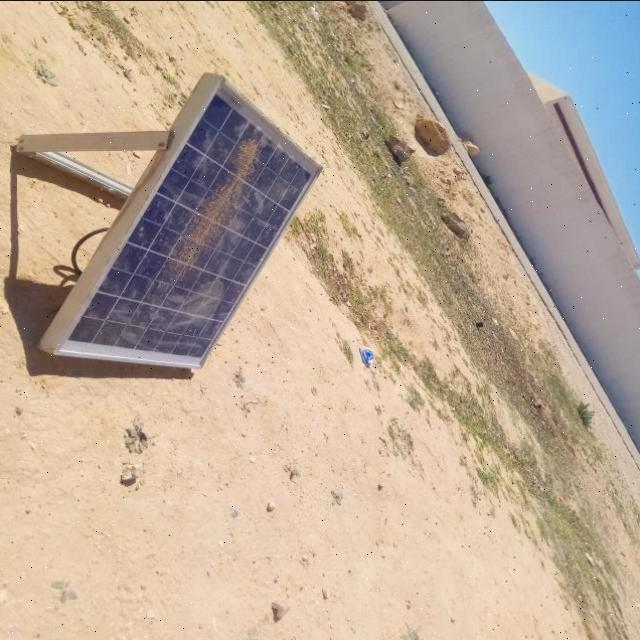Anomaly Solar Panel: (63, 85, 316, 363)
Surface Contaminant: (102, 127, 268, 337), (273, 170, 297, 204)
